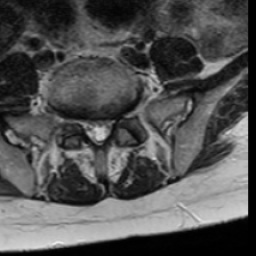CCS_normal: (93, 109, 102, 153)
LFS_severe_stenosis: (114, 102, 124, 130)
LLS_normal: (102, 109, 114, 144)
RFS_severe_stenosis: (71, 105, 81, 134)
RLS_normal: (81, 108, 93, 147)
